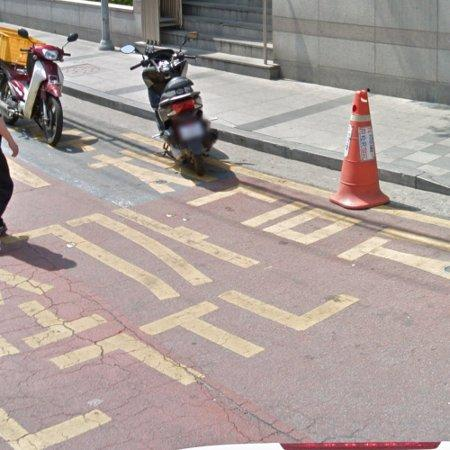motorcycles: (131, 49, 218, 173)
